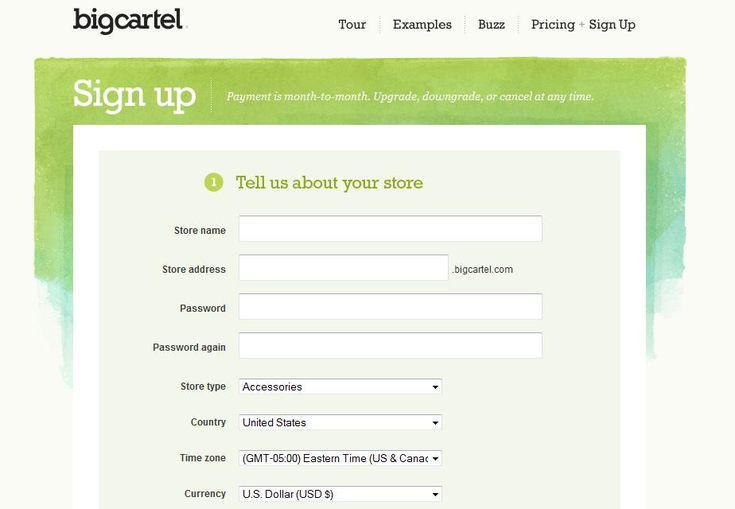dropdown: (239, 415, 443, 433), (239, 487, 443, 505), (238, 379, 443, 395), (238, 452, 443, 468)
input: (238, 333, 545, 360), (239, 296, 544, 322), (241, 217, 544, 242), (239, 256, 448, 283)
label: (69, 74, 204, 121), (235, 173, 426, 193), (148, 336, 231, 361), (160, 259, 231, 280), (392, 17, 455, 33), (529, 16, 577, 35), (171, 224, 228, 240), (588, 17, 637, 35), (177, 301, 229, 317), (175, 451, 232, 465), (332, 15, 371, 35), (188, 415, 230, 433), (182, 489, 233, 503), (178, 381, 228, 394), (477, 19, 509, 33)
